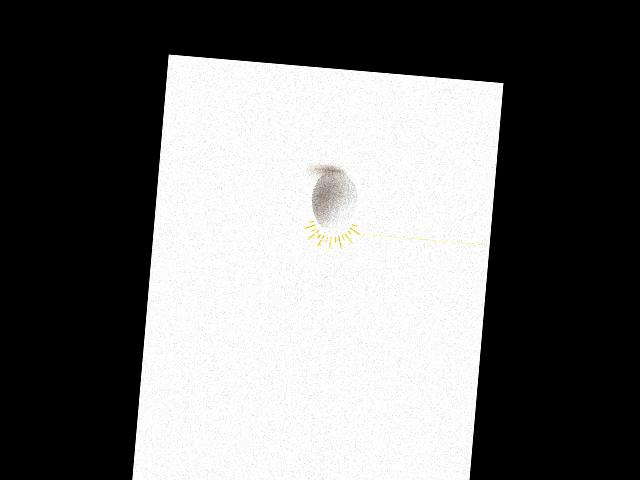egg: (309, 170, 360, 233)
